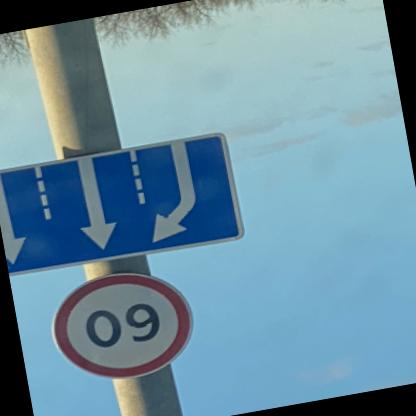speedlimit: (46, 262, 205, 392)
